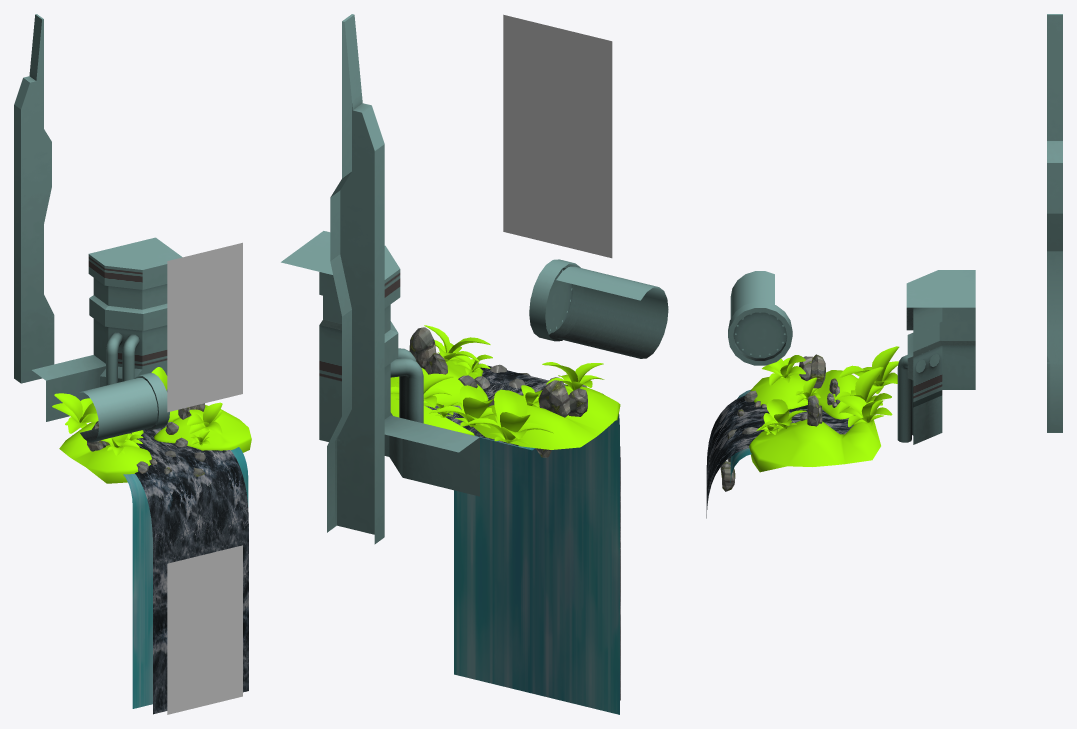
Rendered from Cascada_Entrada.FBX.
3 renders of one model, left to right at view 1: azimuth 30°, elevation 25°; view 2: azimuth 150°, elevation 25°; view 3: azimuth 270°, elevation 25°, orthographic. The views are drawn at different scales.
Parts seen in each view (by area): view 1: Cascada_Laboratorio, Selva_Layer_01, Cascada_Entrada_Espuma, Cascada_Entrada_Agua, Cascada_Entrada_Orilla, Planta_09, Cascada_Entrada_Rocas_Claras; view 2: Cascada_Laboratorio, Cascada_Entrada_Agua, Selva_Layer_01, Planta_09, Cascada_Entrada_Orilla, Cascada_Entrada_Rocas_Claras, Cascada_Entrada_Espuma; view 3: Cascada_Laboratorio, Cascada_Entrada_Orilla, Planta_09, Cascada_Entrada_Espuma, Cascada_Entrada_Rocas_Claras.
Boxes of the visible parts, bbox=[...] form: Cascada_Laboratorio: bbox=[14, 14, 182, 442]; Selva_Layer_01: bbox=[167, 242, 242, 714]; Cascada_Entrada_Espuma: bbox=[135, 422, 248, 714]; Cascada_Entrada_Agua: bbox=[123, 447, 248, 708]; Cascada_Entrada_Orilla: bbox=[59, 405, 251, 483]; Planta_09: bbox=[52, 367, 222, 455]; Cascada_Entrada_Rocas_Claras: bbox=[87, 403, 205, 476]; Cascada_Laboratorio: bbox=[281, 14, 668, 544]; Cascada_Entrada_Agua: bbox=[454, 414, 619, 714]; Selva_Layer_01: bbox=[503, 14, 612, 258]; Planta_09: bbox=[390, 325, 604, 444]; Cascada_Entrada_Orilla: bbox=[390, 357, 620, 449]; Cascada_Entrada_Rocas_Claras: bbox=[409, 327, 587, 457]; Cascada_Entrada_Espuma: bbox=[426, 363, 620, 700]; Cascada_Laboratorio: bbox=[728, 14, 1062, 444]; Cascada_Entrada_Orilla: bbox=[749, 370, 880, 472]; Planta_09: bbox=[756, 346, 899, 434]; Cascada_Entrada_Espuma: bbox=[706, 395, 854, 518]; Cascada_Entrada_Rocas_Claras: bbox=[720, 354, 840, 491].
Size of the model in its own units: 4876 by 15265 by 7636.
